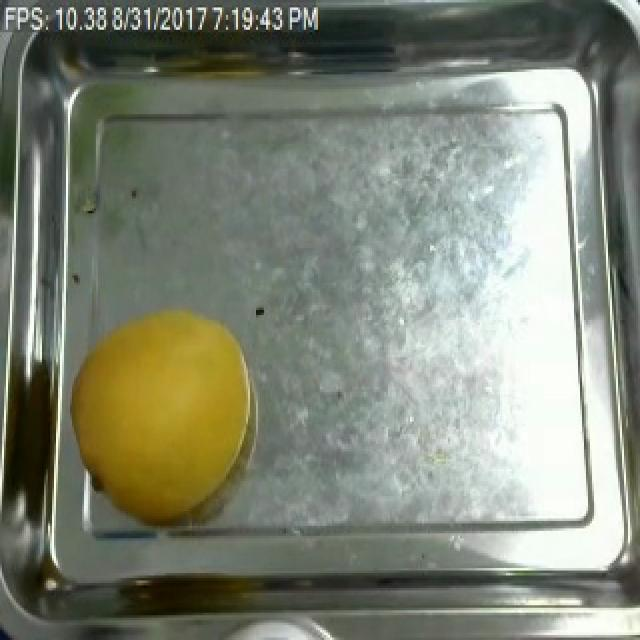fruit: (58, 293, 266, 538)
